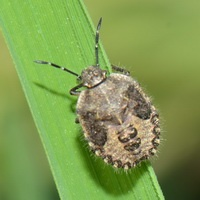insect: (34, 18, 160, 169)
